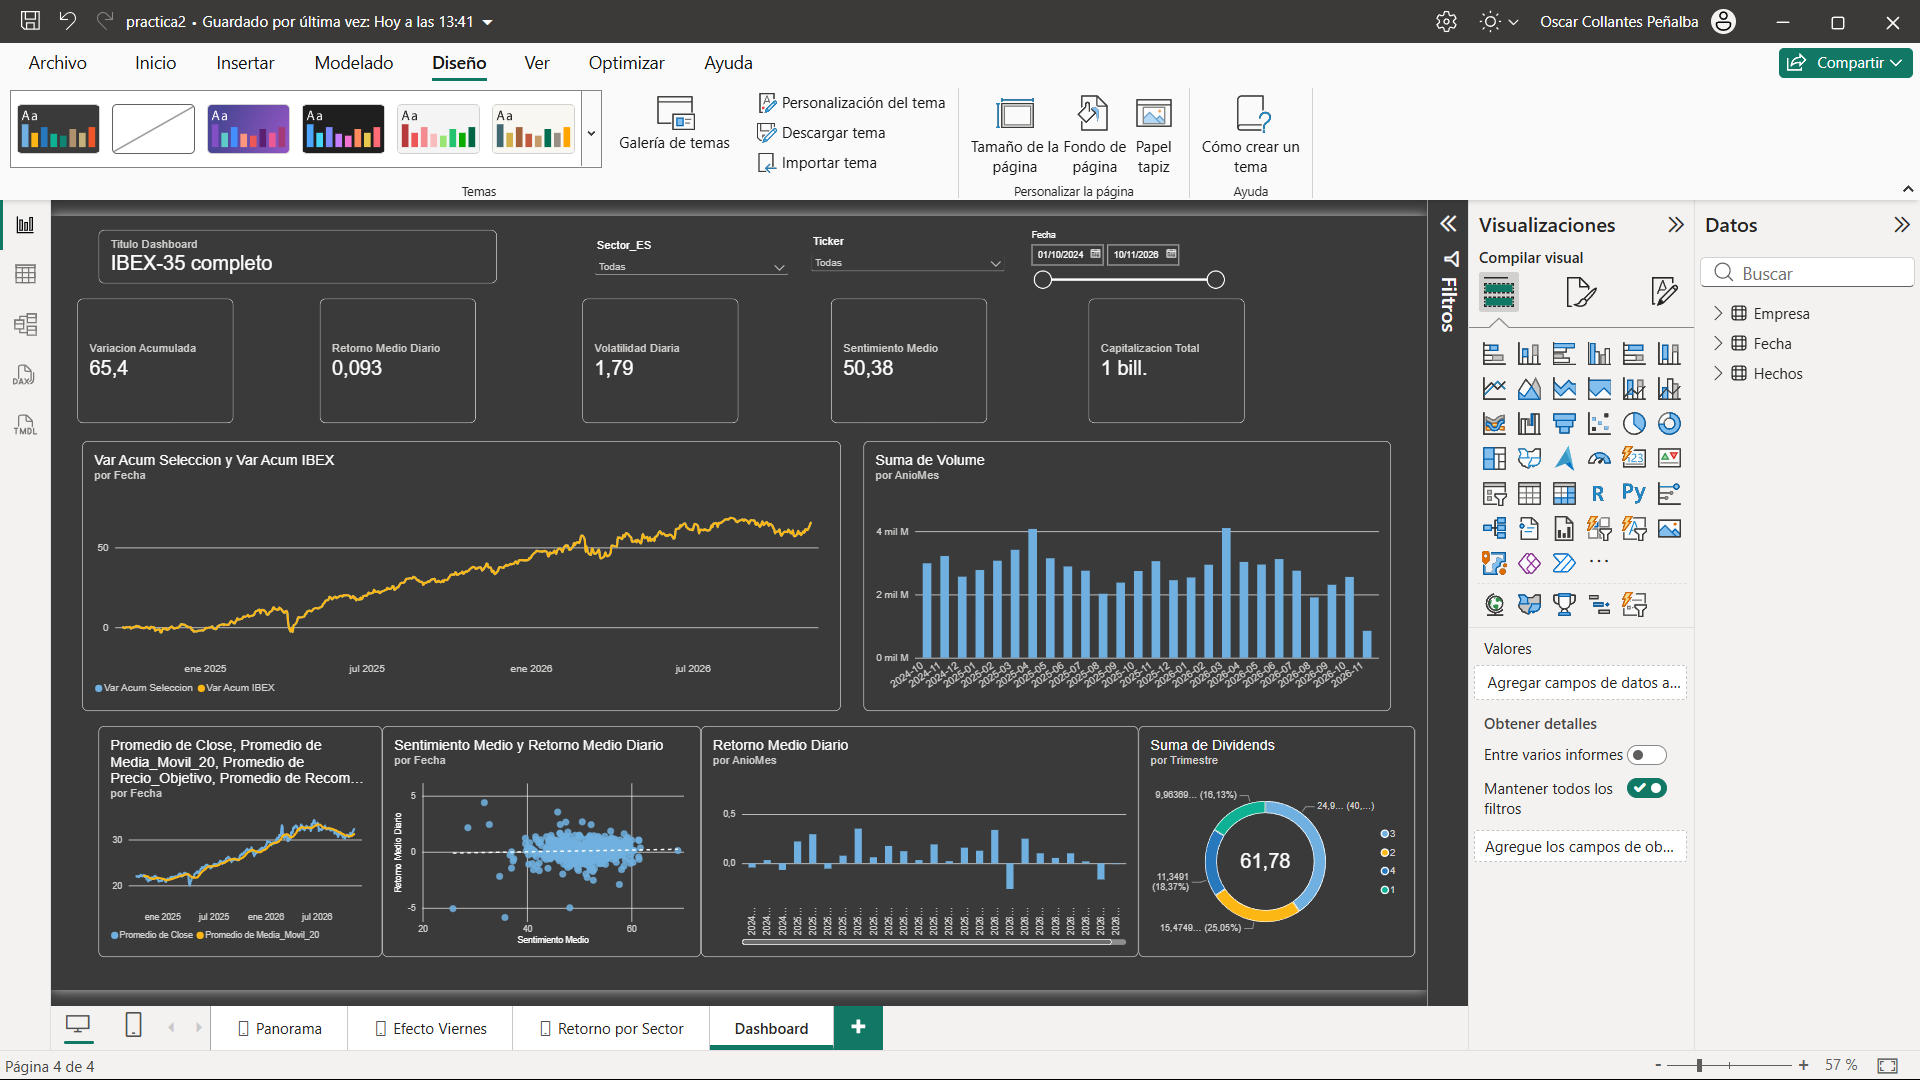

What the dashboard file says about the page in this screenshot:
{"tool":"powerbi","page":{"name":"Dashboard","canvas":[1920,1080],"ordinal":3},"visuals":[{"type":"slicer","fields":{"Values":["Empresa.Sector_ES"]},"box":[753.5,31.4,280.8,68],"z":0},{"type":"slicer","fields":{"Values":["Empresa.Ticker"]},"box":[1055.2,26.2,280.8,80.2],"z":1000},{"type":"slicer","fields":{"Values":["Fecha.Fecha"]},"box":[1360.5,19.2,280.8,95.9],"z":2000},{"type":"cardVisual","fields":{"Data":["Hechos.Variacion Acumulada"]},"box":[36.6,115.1,218,174.4],"z":3000},{"type":"cardVisual","fields":{"Data":["Hechos.Retorno Medio Diario"]},"box":[375,115.1,218,174.4],"z":4000},{"type":"cardVisual","fields":{"Data":["Hechos.Volatilidad Diaria"]},"box":[741.3,115.1,218,174.4],"z":5000},{"type":"cardVisual","fields":{"Data":["Hechos.Sentimiento Medio"]},"box":[1088.4,115.1,218,174.4],"z":6000},{"type":"cardVisual","fields":{"Data":["Hechos.Capitalizacion Total"]},"box":[1447.7,115.1,218,174.4],"z":7000},{"type":"lineChart","fields":{"Category":["Fecha.Fecha"],"Y":["Hechos.Var Acum Seleccion","Hechos.Var Acum IBEX"]},"box":[43.6,314,1058.7,376.7],"z":8000},{"type":"clusteredColumnChart","fields":{"Category":["Fecha.AnioMes"],"Y":["Sum(Hechos.Volume)"]},"box":[1133.7,314,736,376.7],"z":9000},{"type":"lineChart","fields":{"Category":["Fecha.Fecha"],"Y":["Avg(Hechos.Close)","Avg(Hechos.Media_Movil_20)"]},"box":[66.3,711.6,395.9,322.7],"z":10000},{"type":"scatterChart","fields":{"Category":["Fecha.Fecha"],"X":["Hechos.Sentimiento Medio"],"Y":["Hechos.Retorno Medio Diario"]},"box":[462.2,711.6,444.8,322.7],"z":11000},{"type":"clusteredColumnChart","fields":{"Category":["Fecha.AnioMes"],"Y":["Hechos.Retorno Medio Diario"]},"box":[907,711.6,610.5,322.7],"z":12000},{"type":"donutChart","fields":{"Category":["Fecha.Trimestre"],"Y":["Sum(Hechos.Dividends)"]},"box":[1517.4,711.6,385.5,322.7],"z":13000},{"type":"cardVisual","fields":{"Data":["Hechos.Titulo Dashboard"]},"box":[66.3,19.2,556.4,75],"z":13001}]}

Visuals, with their boxes on the page's 1920x1080 design canvas (x1, y1, x2, y2). These are canvas units, not pixel positions in the 1920x1080 screenshot, which may show the page scaled, cropped or inside an application window:
slicer - Empresa.Sector_ES: 754:31:1034:99
slicer - Empresa.Ticker: 1055:26:1336:106
slicer - Fecha.Fecha: 1360:19:1641:115
cardVisual - Hechos.Variacion Acumulada: 37:115:255:290
cardVisual - Hechos.Retorno Medio Diario: 375:115:593:290
cardVisual - Hechos.Volatilidad Diaria: 741:115:959:290
cardVisual - Hechos.Sentimiento Medio: 1088:115:1306:290
cardVisual - Hechos.Capitalizacion Total: 1448:115:1666:290
lineChart - Fecha.Fecha x Hechos.Var Acum Seleccion: 44:314:1102:691
clusteredColumnChart - Fecha.AnioMes x Sum(Hechos.Volume): 1134:314:1870:691
lineChart - Fecha.Fecha x Avg(Hechos.Close): 66:712:462:1034
scatterChart - Fecha.Fecha x Hechos.Sentimiento Medio: 462:712:907:1034
clusteredColumnChart - Fecha.AnioMes x Hechos.Retorno Medio Diario: 907:712:1518:1034
donutChart - Fecha.Trimestre x Sum(Hechos.Dividends): 1517:712:1903:1034
cardVisual - Hechos.Titulo Dashboard: 66:19:623:94
